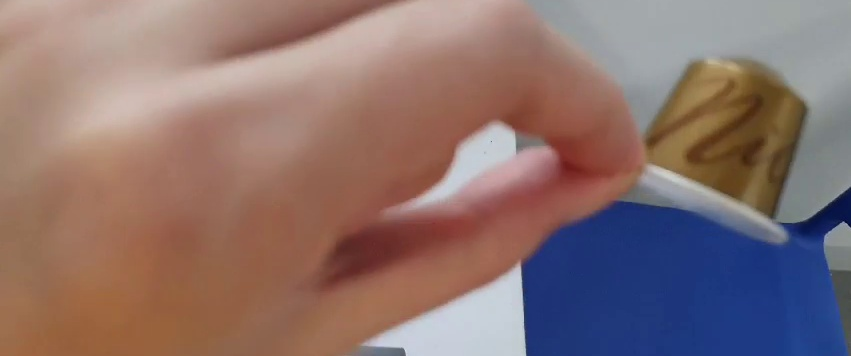capsule_9: (619, 49, 810, 249)
